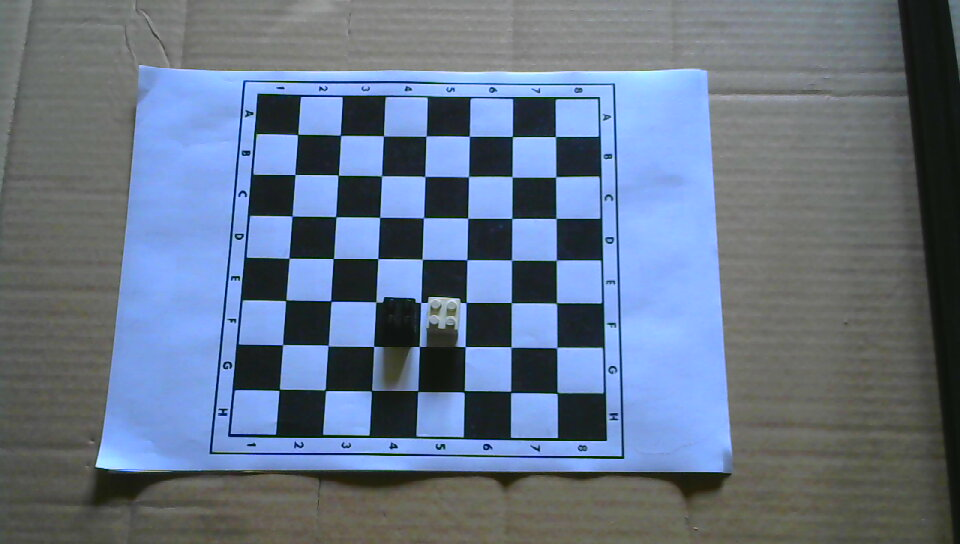bp: (380, 294, 418, 338)
wp: (424, 295, 463, 336)
